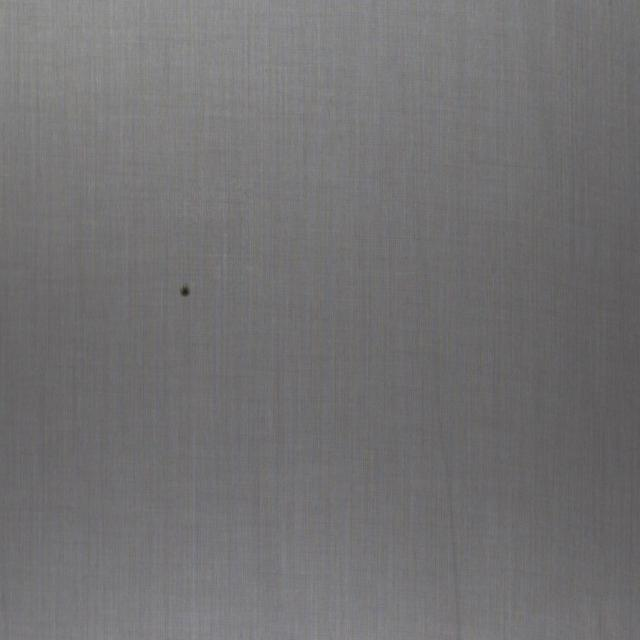dirty: (181, 282, 190, 300)
